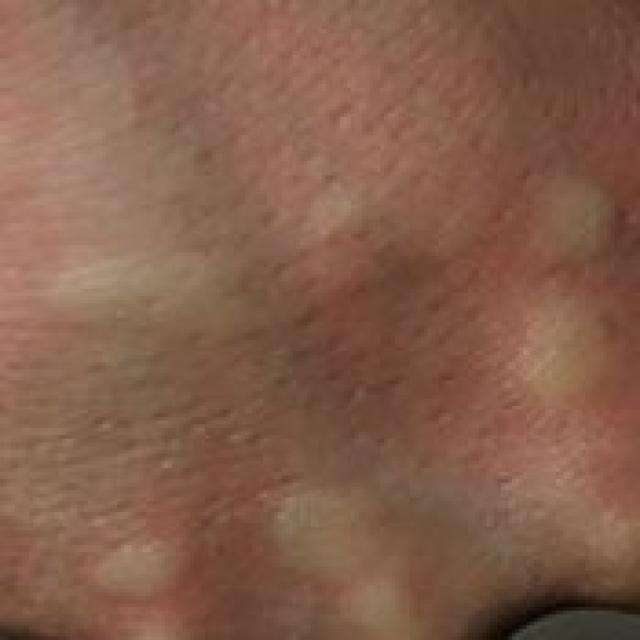sinek: (249, 161, 490, 299), (44, 216, 230, 368), (256, 464, 417, 588), (499, 287, 626, 426), (66, 525, 224, 627), (507, 142, 623, 279)
